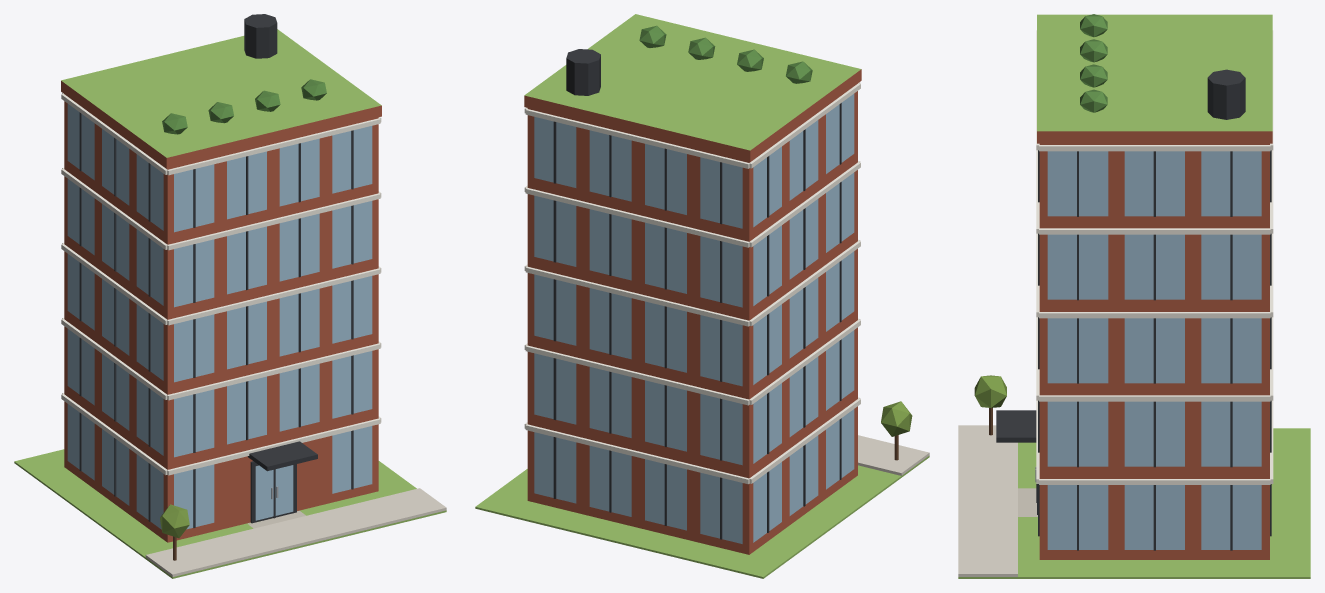
The model's file is Buro_tugla_cam_3_Hafif.fbx.
3 views of the same model, side by side, from view 1: azimuth 30°, elevation 25°; view 2: azimuth 150°, elevation 25°; view 3: azimuth 270°, elevation 25° (orthographic). The views are drawn at different scales.
Parts seen in each view (by area): view 1: Buro_tugla_cam_3_Hafif; view 2: Buro_tugla_cam_3_Hafif; view 3: Buro_tugla_cam_3_Hafif.
Boxes of the visible parts, x1,y1,x2,y2 form: Buro_tugla_cam_3_Hafif: [14, 14, 446, 578]; Buro_tugla_cam_3_Hafif: [475, 14, 929, 578]; Buro_tugla_cam_3_Hafif: [958, 14, 1310, 578].
Bounding box in the file's own units: 13 × 19.02 × 13.
